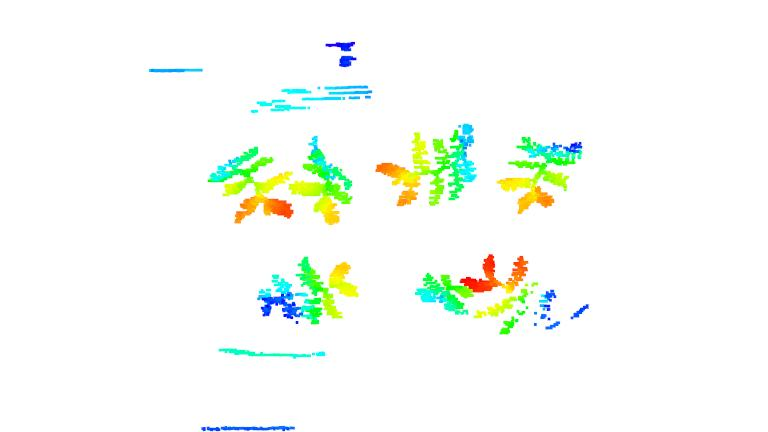chickpea: (375, 120, 480, 211), (204, 141, 294, 226), (495, 131, 586, 215), (461, 256, 560, 333), (257, 253, 357, 325), (287, 136, 354, 225), (411, 268, 473, 317)
